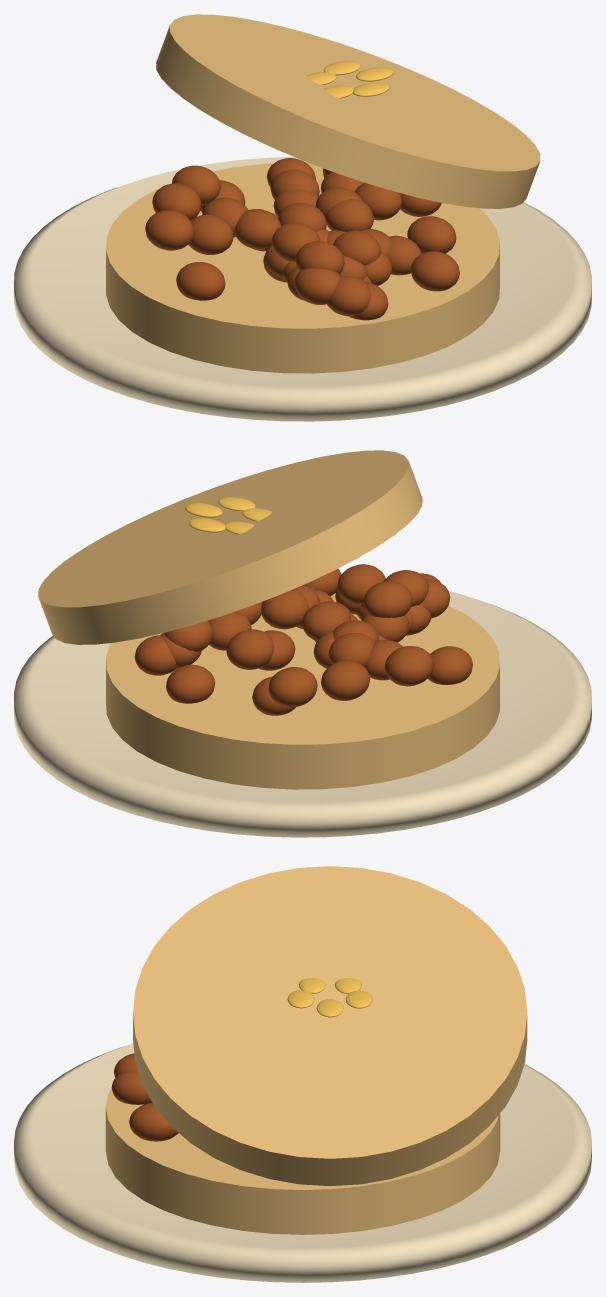
The model's file is 45-monaka.glb.
3 views of the same model, one above another, from view 1: azimuth 30°, elevation 25°; view 2: azimuth 150°, elevation 25°; view 3: azimuth 270°, elevation 25° (orthographic).
Visible parts, largest first — view 1: 팥 모나카; view 2: 팥 모나카; view 3: 팥 모나카.
Part boxes in pixels (box(x1,y1,x2,y2)): 팥 모나카: box(14, 14, 591, 421); 팥 모나카: box(14, 450, 591, 837); 팥 모나카: box(14, 866, 591, 1282).
Size of the model in its own units: 1.7 by 0.8711 by 1.7.
